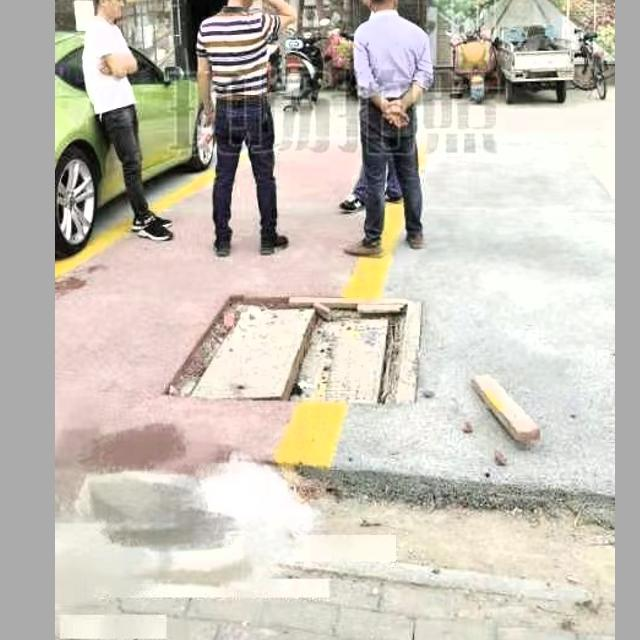circle: (175, 296, 421, 409)
